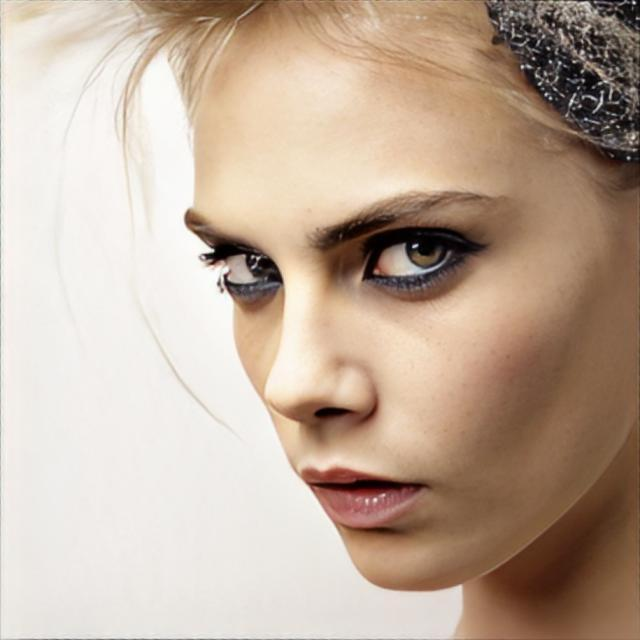anger: (181, 16, 637, 598)
